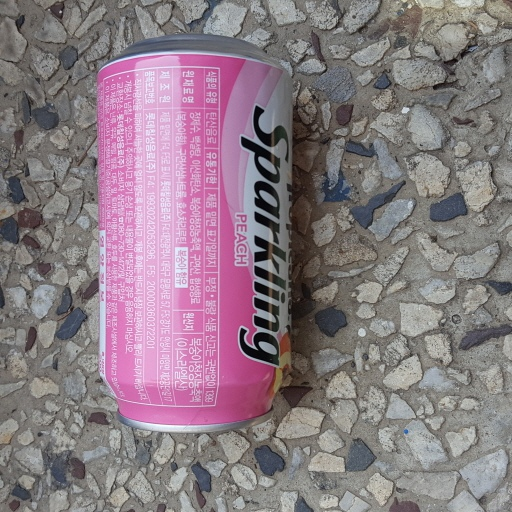Metal_0: (92, 35, 297, 435)
